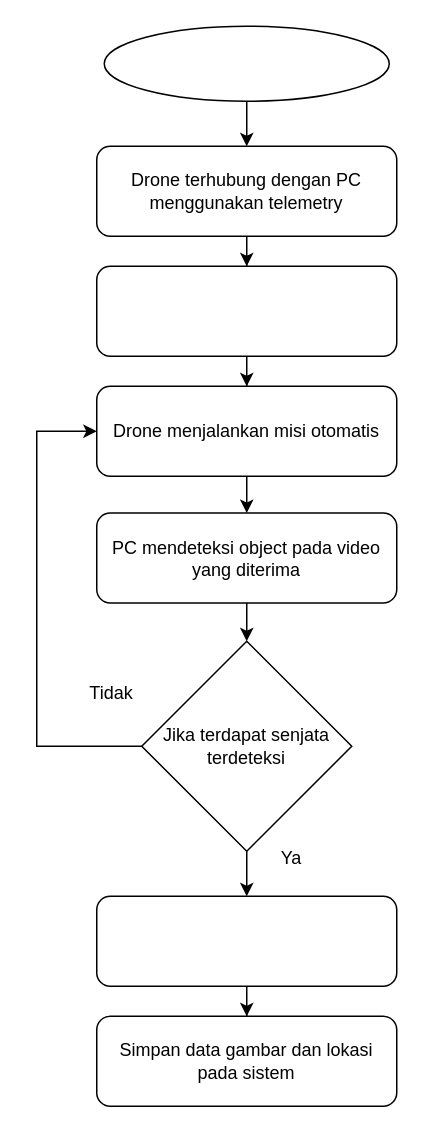
The diagram is 423 pixels wide and 1133 high, and some of its shapes have lost their labels. Here are the shapes that lost their labels. From the top down, the centre of each, then its label:
At (246,63): "Mulai".
At (246,310): "Kamera drone terhubung dengan PC".
At (246,940): "Tunjukan Alarm visual berupa lokasi koordinat (GPS) drone".
